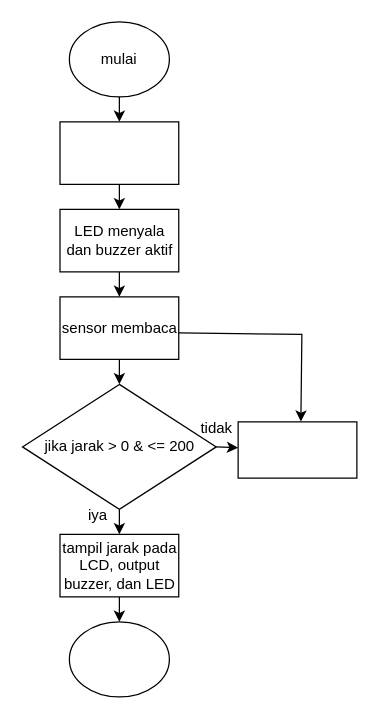
Image size: 379x719. Some labels were removed from this diagram. The shapes that lost their labels are listed below. From the top down, each one's centre as x and y in pixels, then its label:
At point 119,152: "tekan PB untuk mulai".
At point 297,449: "tampil pada LCD tidak ada objek".
At point 118,659: "selesai".
